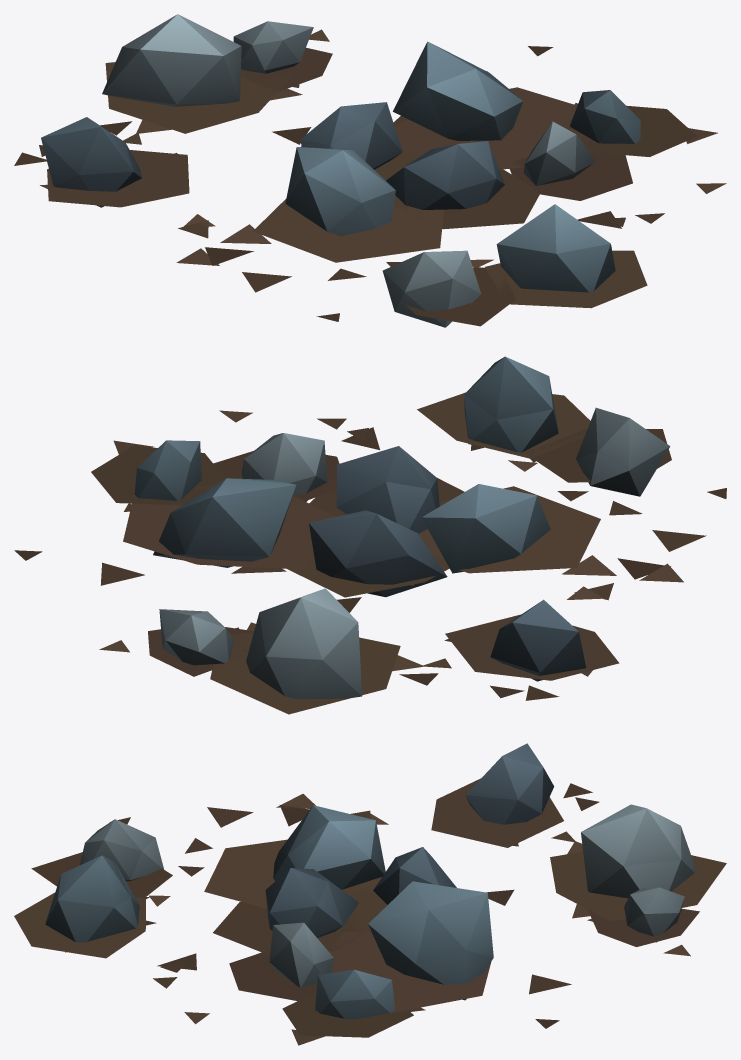
File: iron-ore.glb
3 views of the same model, one above another, from view 1: azimuth 30°, elevation 25°; view 2: azimuth 150°, elevation 25°; view 3: azimuth 270°, elevation 25° (orthographic). The views are drawn at different scales.
Parts seen in each view (by area): view 1: iron-ore; view 2: iron-ore; view 3: iron-ore.
Part boxes in pixels (x1,y1,x2,y2): iron-ore: (14, 14, 726, 327); iron-ore: (14, 356, 726, 714); iron-ore: (14, 743, 726, 1045).
Size of the model in its own units: 1.36 by 0.2067 by 1.53.
